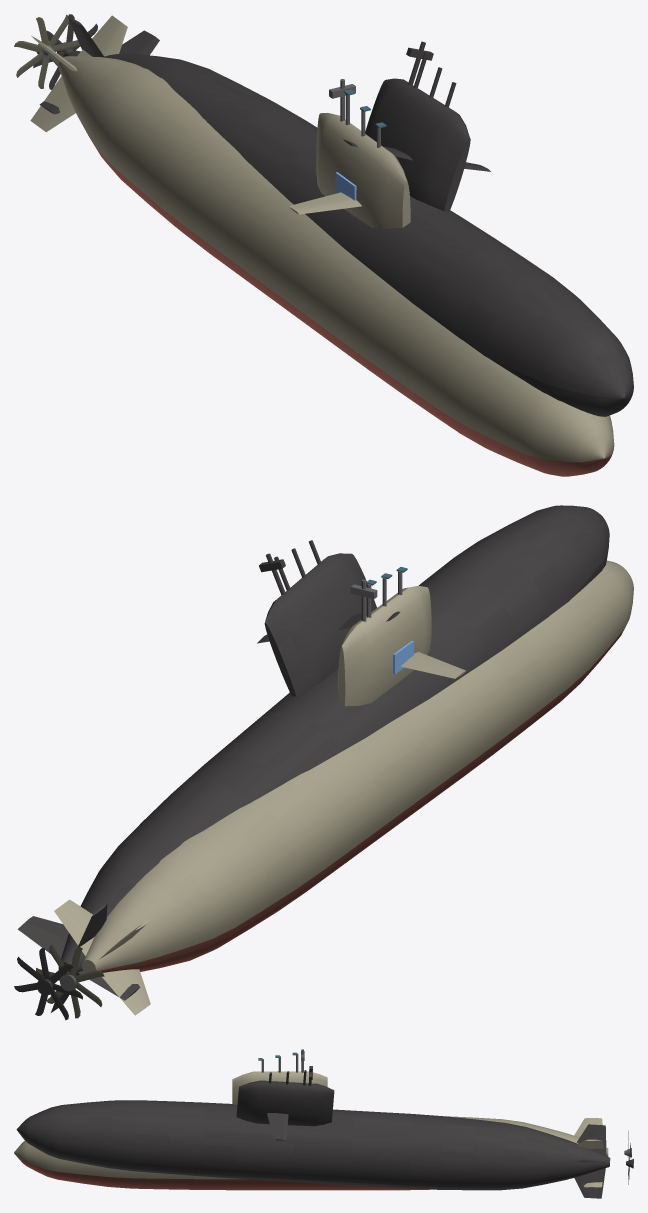
The model's file is submarine__u212_nfs.glb.
The picture shows the model from 3 angles, top to bottom: view 1: azimuth 30°, elevation 25°; view 2: azimuth 150°, elevation 25°; view 3: azimuth 270°, elevation 25°; orthographic projection. The views are drawn at different scales.
Visible parts, largest first — view 1: Hull_Mesh, Wreck; view 2: Hull_Mesh, Wreck; view 3: Wreck, Hull_Mesh.
Part boxes in pixels (<box>): Hull_Mesh: <box>14,14,614,476</box>; Wreck: <box>33,14,633,416</box>; Hull_Mesh: <box>36,560,633,1018</box>; Wreck: <box>14,505,609,1020</box>; Wreck: <box>16,1066,633,1198</box>; Hull_Mesh: <box>14,1052,631,1190</box>.
Size of what is drawn, in the model's own units: 11.65 by 14.72 by 57.82.
